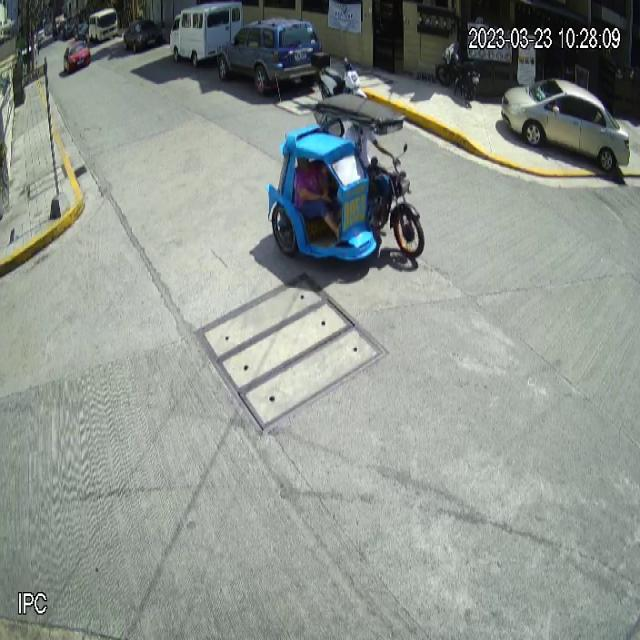Car: (501, 76, 631, 171), (219, 15, 325, 94)
Tricycle: (264, 93, 425, 261)
Van: (169, 2, 244, 69)
